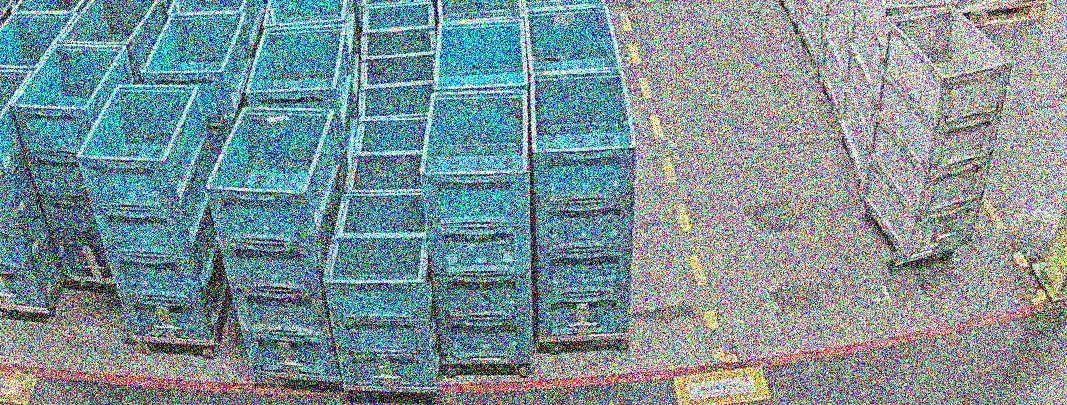4G: (857, 6, 1013, 263)
B4: (76, 84, 229, 345), (205, 108, 345, 381), (418, 92, 533, 363), (7, 44, 134, 281), (529, 70, 637, 339)
B8: (323, 191, 438, 392)
